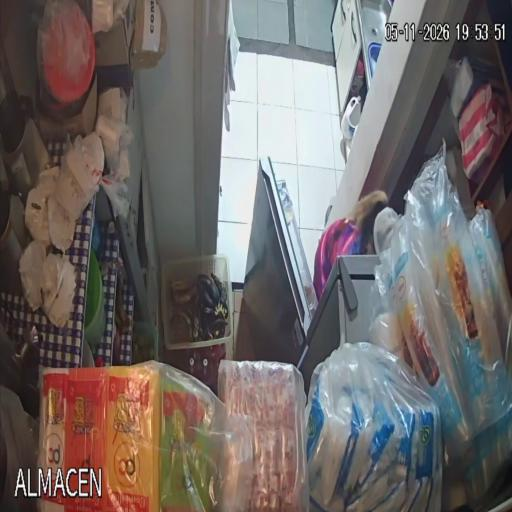Envase para platanos: (161, 255, 233, 350)
Persona2: (314, 191, 399, 299)
Productos culinarios: (375, 140, 512, 503), (37, 360, 226, 512), (306, 343, 442, 512), (218, 361, 309, 512)
Taper: (84, 250, 105, 349)
Taper2: (82, 340, 95, 367)
